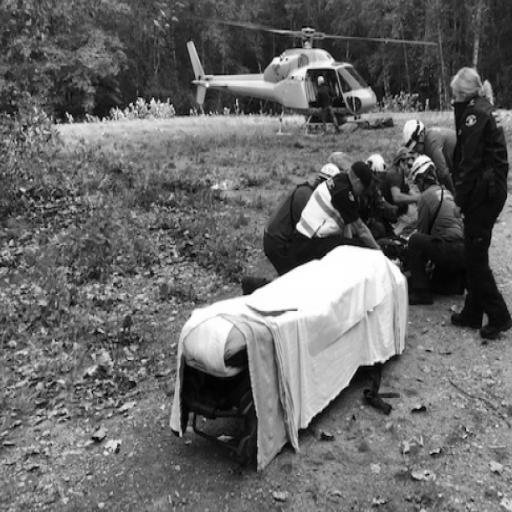helicopter: (177, 10, 442, 138)
